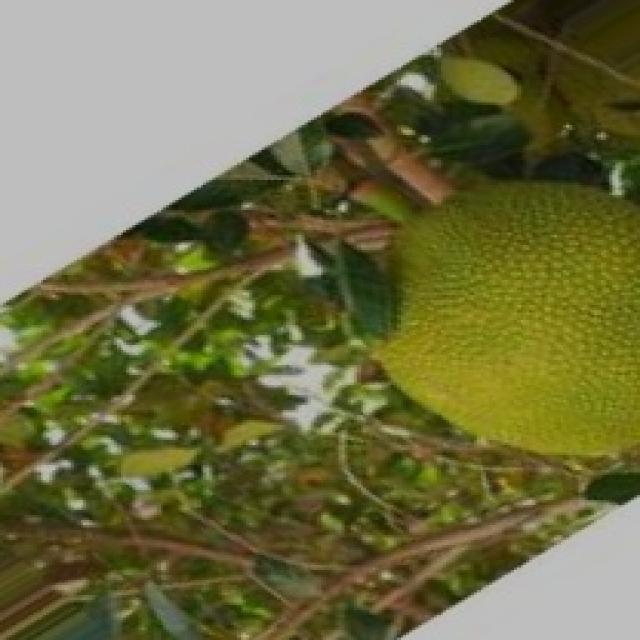Fruit: (341, 140, 640, 490)
